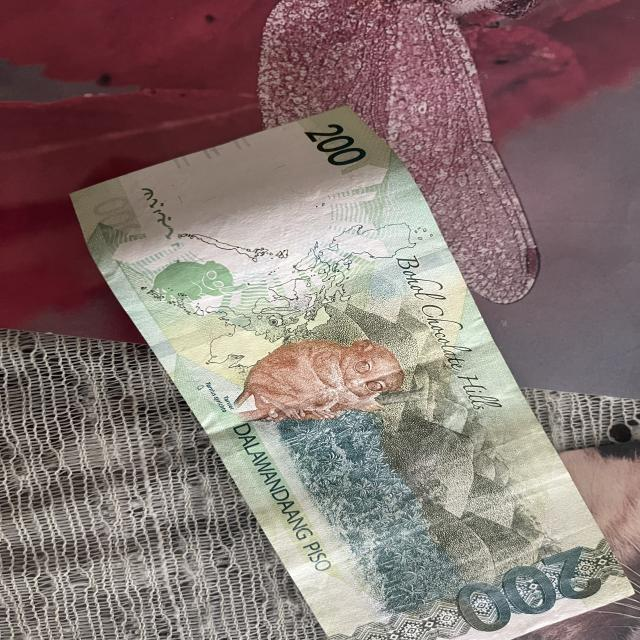200_tarsier: (215, 326, 414, 441)
200_tarsier_watermark: (143, 250, 243, 310)
